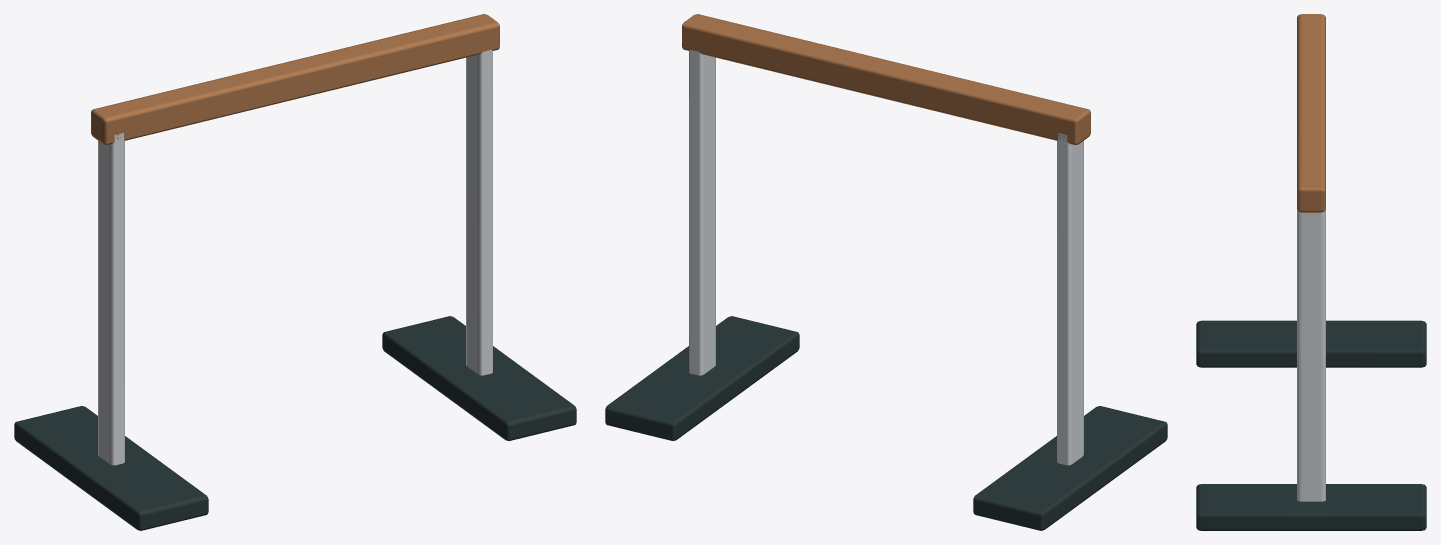
File: wp-haie-d-athletisme.glb
3 renders of one model, left to right at view 1: azimuth 30°, elevation 25°; view 2: azimuth 150°, elevation 25°; view 3: azimuth 270°, elevation 25°, orthographic. The views are drawn at different scales.
Parts seen in each view (by area): view 1: wp-haie-d-athletisme; view 2: wp-haie-d-athletisme; view 3: wp-haie-d-athletisme.
Boxes of the visible parts, x1=… form: wp-haie-d-athletisme: x1=14, y1=14, x2=576, y2=530; wp-haie-d-athletisme: x1=605, y1=14, x2=1167, y2=530; wp-haie-d-athletisme: x1=1196, y1=14, x2=1426, y2=530.
Bounding box in the file's own units: 1 × 0.8 × 0.5.
